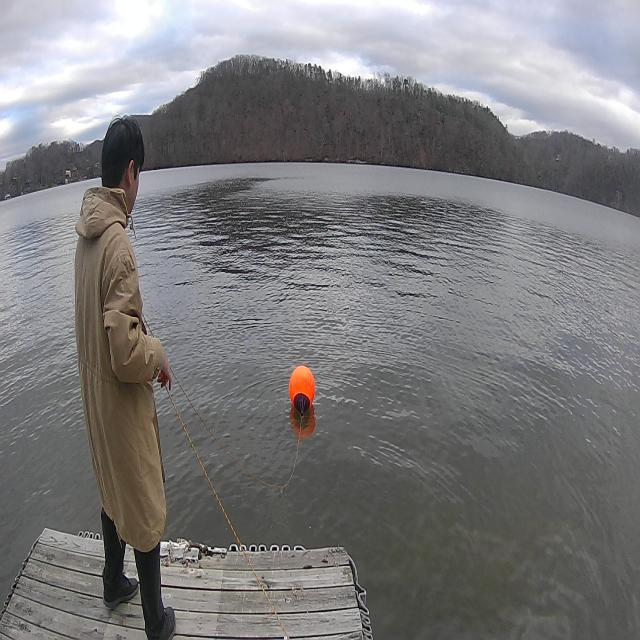Buoy: (286, 359, 319, 421)
